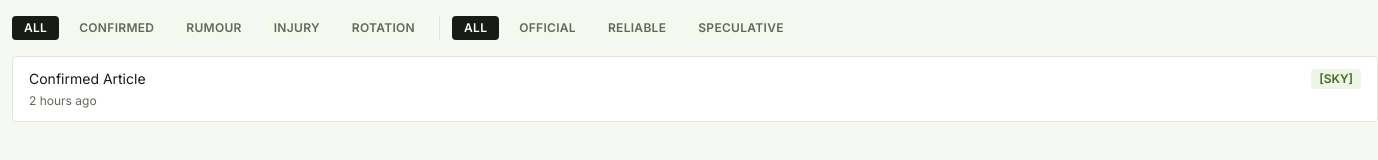
Test: SummerWindowTab — Phase 125 WIN-01 › Test 4 — clicking a filter with no matching articles shows empty state
Click the tab "Rumour".
click(214, 28)  # box [174,16,254,40]
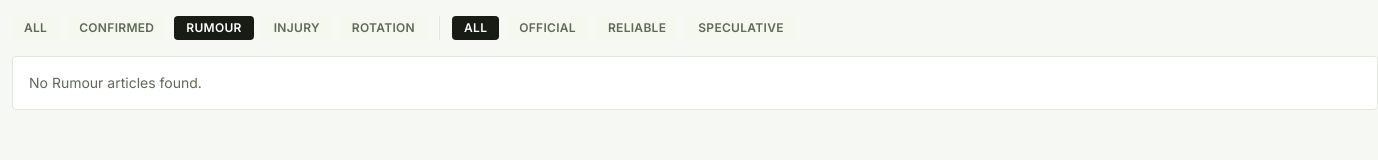
Now the text "No Rumour articles found." is shown, box [29,74,202,91]
